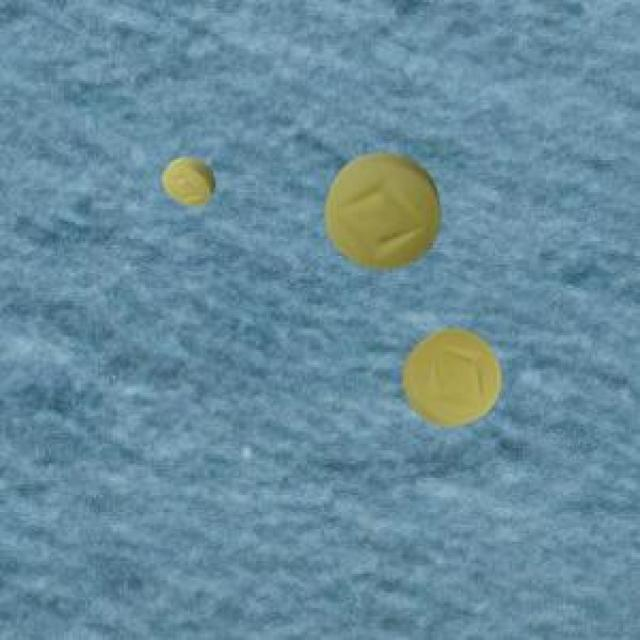Decolgen: (304, 134, 454, 285), (388, 320, 519, 438), (150, 143, 223, 220)
